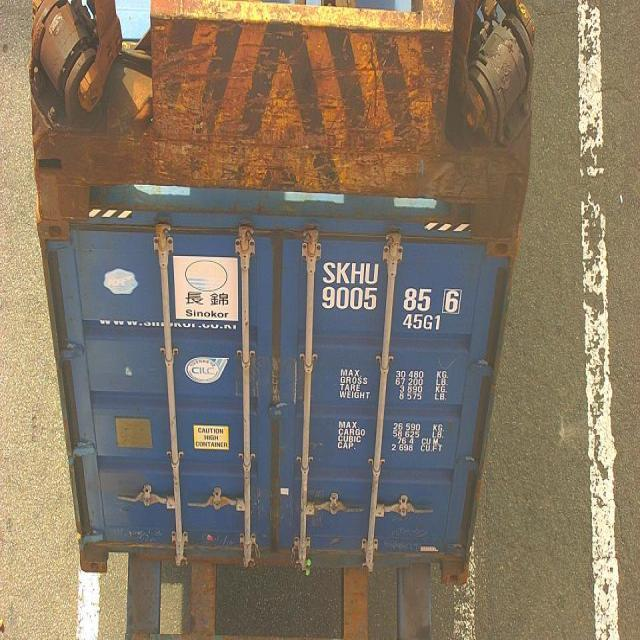ISO: (403, 312, 444, 335)
container_number: (321, 259, 466, 315)
